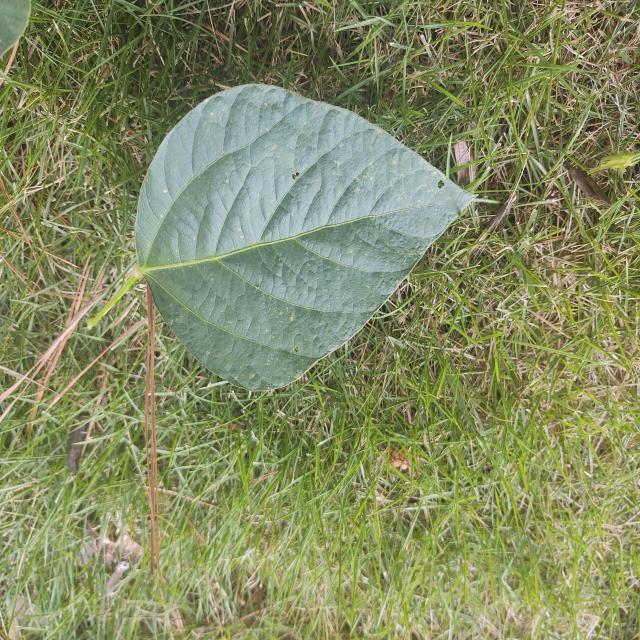Soybean: (133, 84, 474, 392)
downey_mildew: (258, 126, 425, 352), (174, 91, 327, 257), (146, 267, 268, 378), (143, 97, 216, 254), (236, 231, 350, 318), (310, 129, 395, 225), (192, 178, 284, 261), (328, 207, 424, 272), (196, 155, 258, 254), (219, 86, 298, 163), (135, 160, 170, 265), (190, 95, 232, 181)
